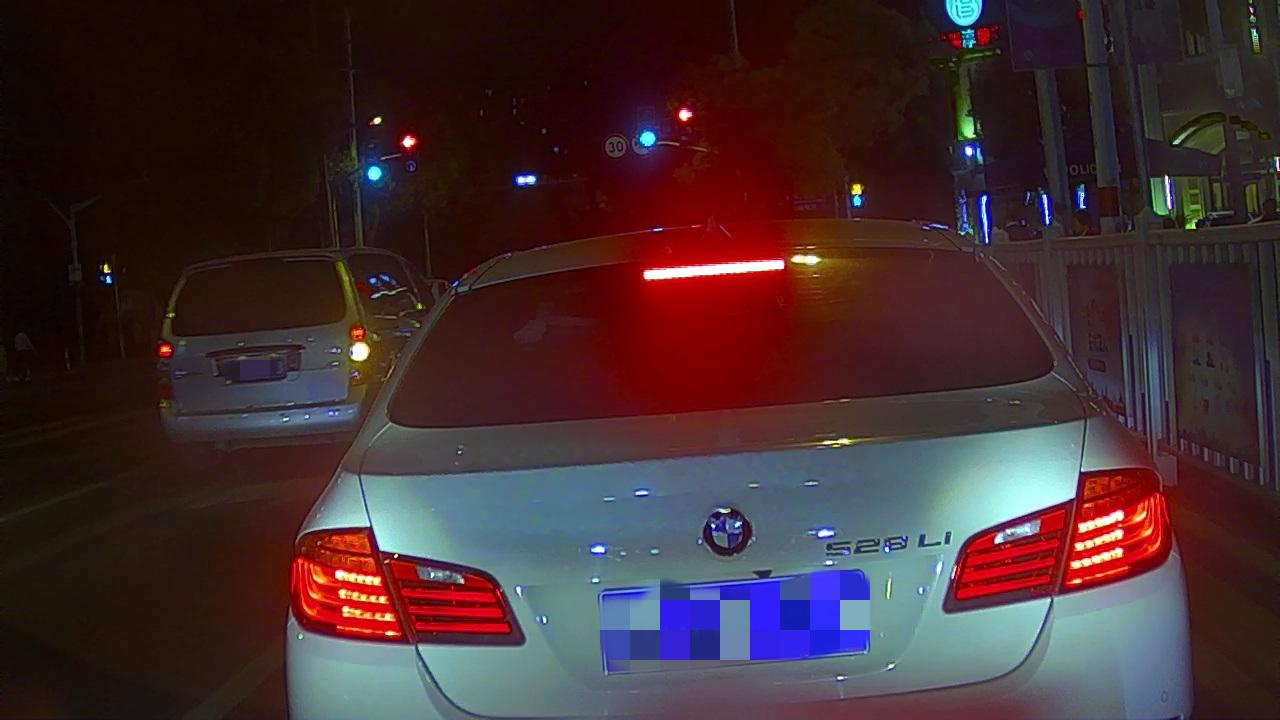traffic_light: (635, 126, 660, 151), (672, 104, 698, 126), (364, 161, 387, 184), (398, 130, 422, 152)
